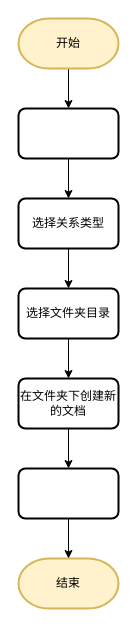
Image size: 136x626. Some labels were removed from this diagram. The box of each missing label's shape, as (x1, y1, x2, y2) in pixels:
创建条目间的关联关系: (17, 467, 119, 519)
选择需要分发 条目: (17, 107, 119, 159)
